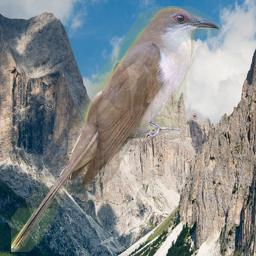Cuckoo: (11, 6, 222, 252)
